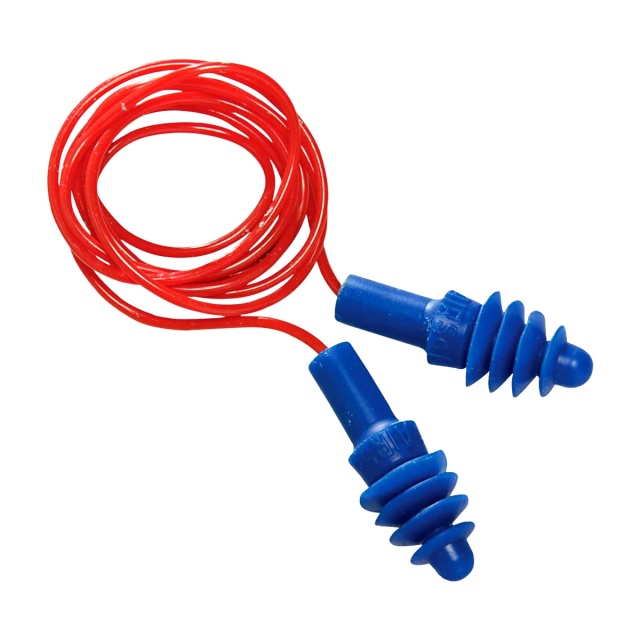Hearing_Protection: (283, 318, 474, 549), (346, 260, 591, 412)
